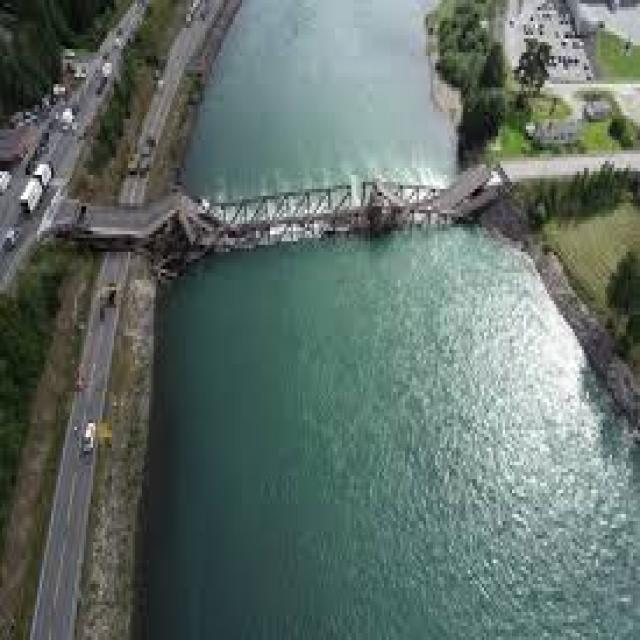bridge collapse: (78, 108, 640, 399)
